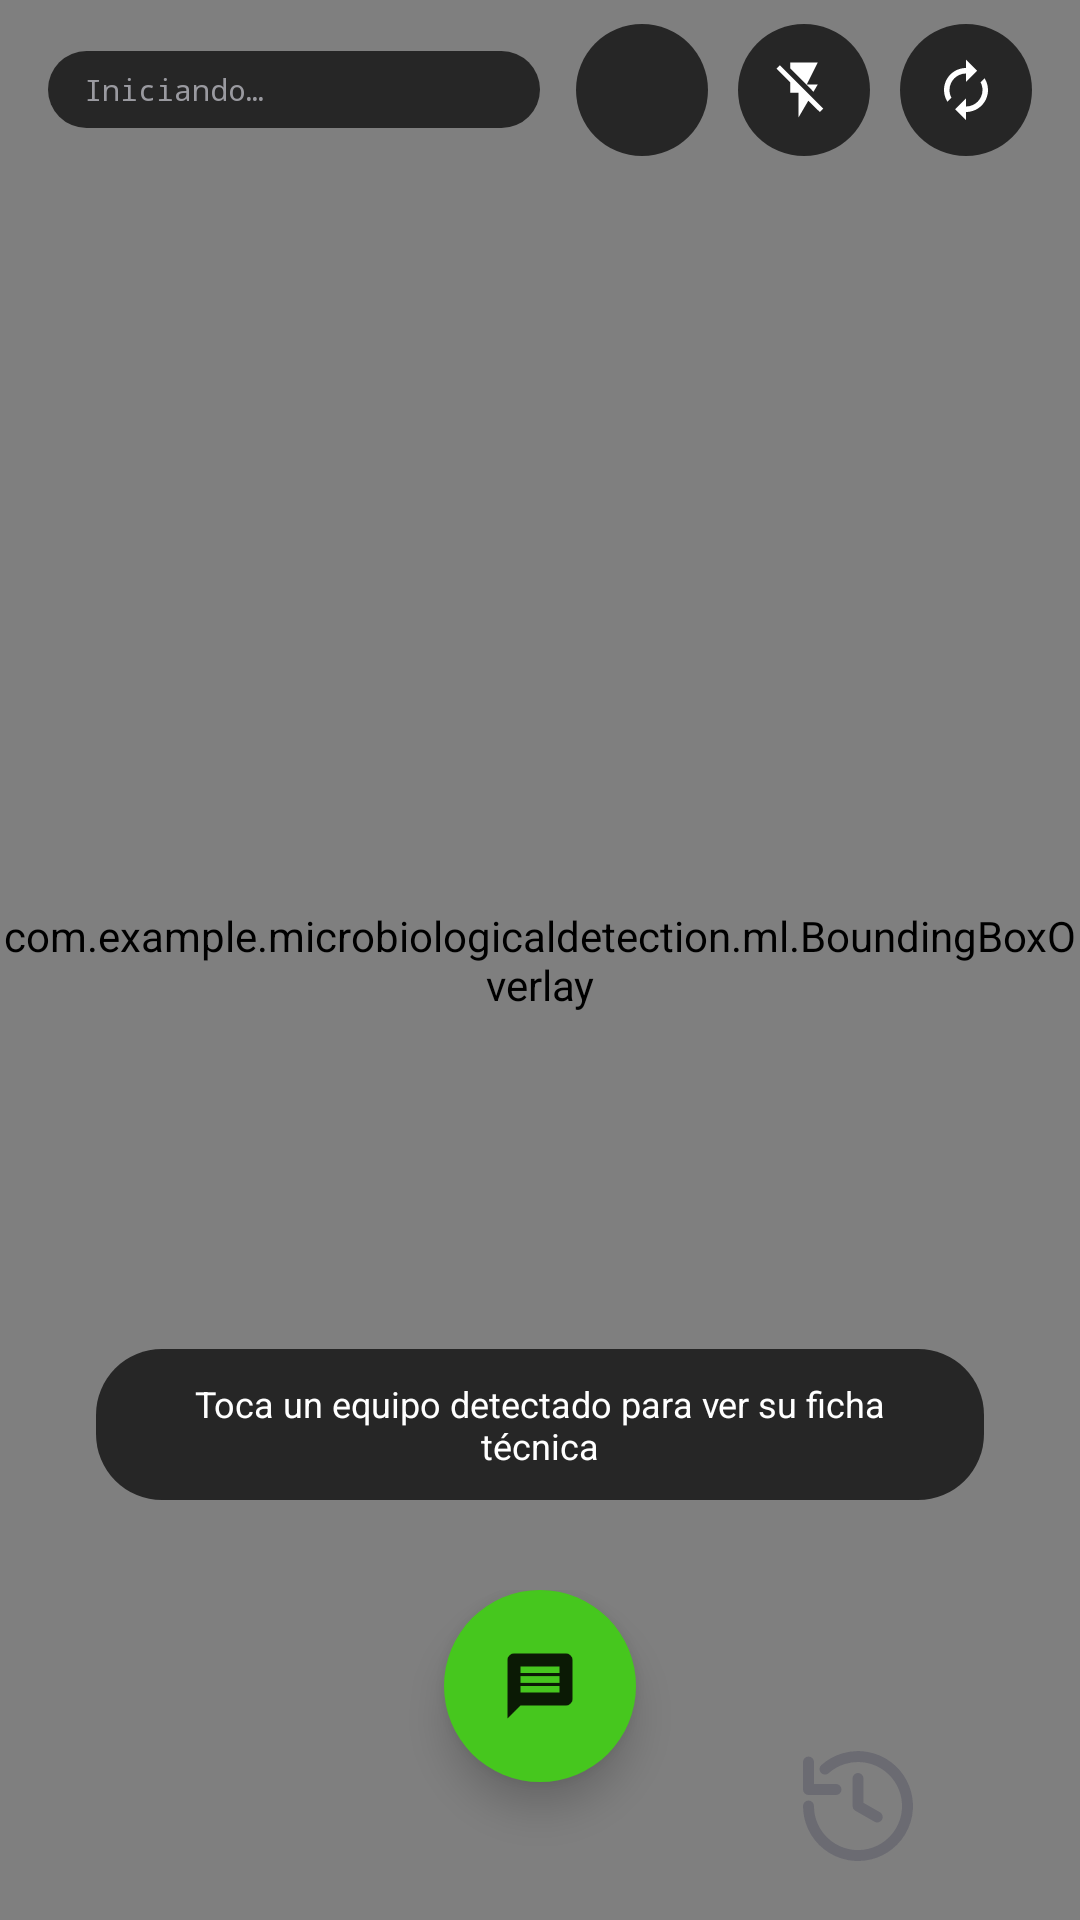

Named icons in this screenshot (1080px x 1920px) and their centers, [x,y]:
Cambiar cámara: [966,90]
Consultar asistente: [540,1686]
Linterna: [804,90]
